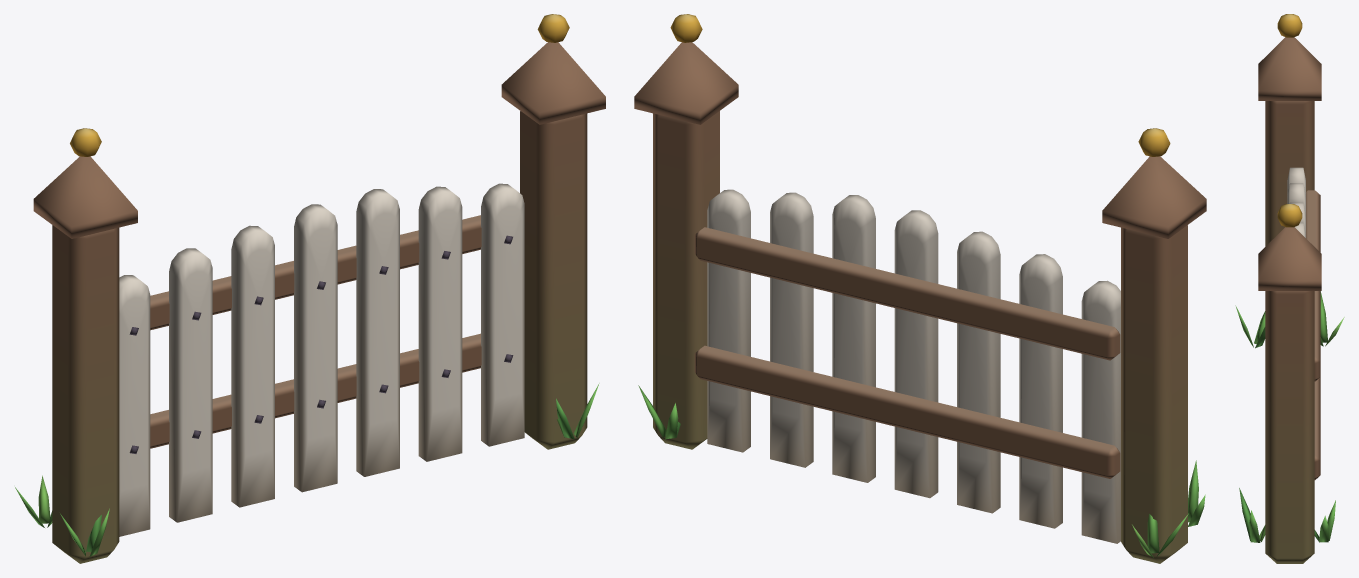
Rendered from fence-1-v0.glb.
The picture shows the model from 3 angles, left to right: view 1: azimuth 30°, elevation 25°; view 2: azimuth 150°, elevation 25°; view 3: azimuth 270°, elevation 25°; orthographic projection. The views are drawn at different scales.
Parts seen in each view (by area): view 1: fence; view 2: fence; view 3: fence.
Boxes of the visible parts, left/top/right/bottom form: fence: left=15, top=14, right=605, bottom=563; fence: left=634, top=14, right=1206, bottom=563; fence: left=1235, top=14, right=1344, bottom=563.
Bounding box in the file's own units: 1.18 × 0.87 × 0.2448.
